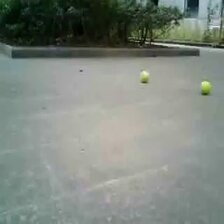tennis: (199, 81, 212, 94), (139, 70, 149, 82)
